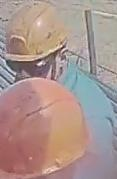goggles: (5, 60, 53, 77)
helmet: (0, 76, 89, 178), (3, 1, 68, 61)
vest: (78, 78, 117, 179)
